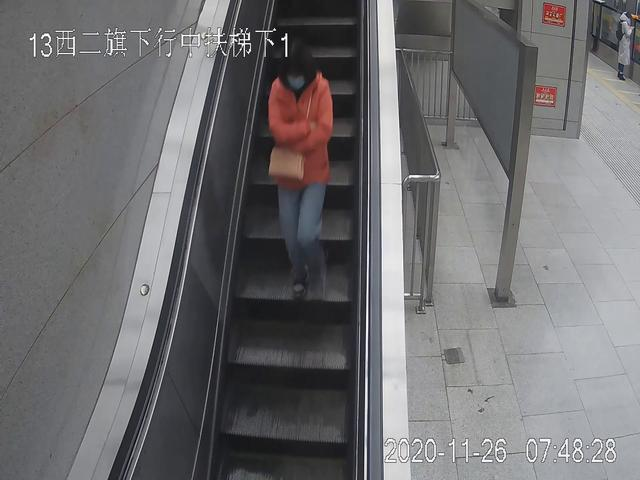person: (267, 42, 334, 301), (615, 10, 637, 80)
